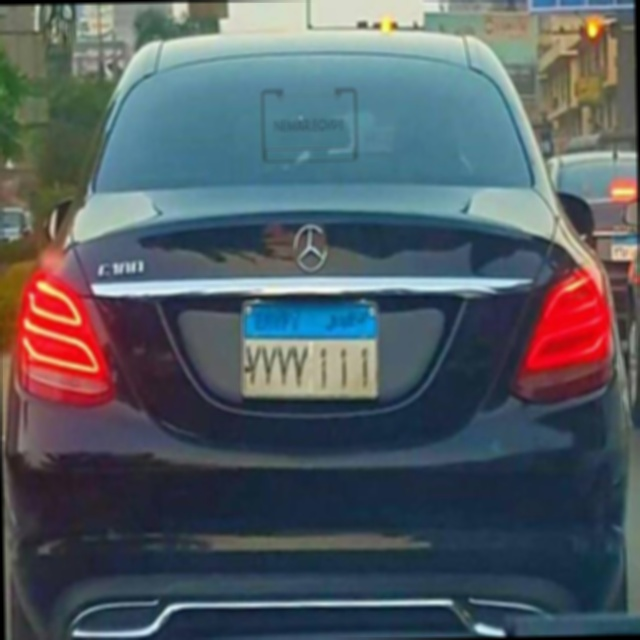License Plate: (235, 294, 383, 408)
